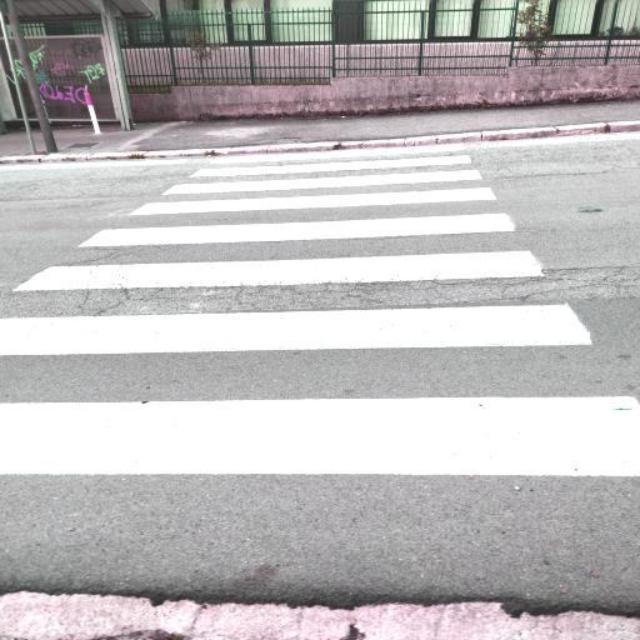sidewalk: (6, 148, 640, 477)
